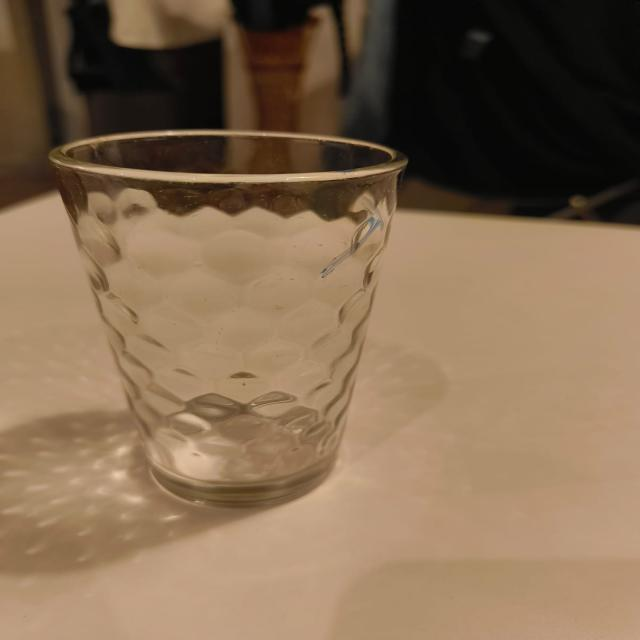mazak: (317, 218, 388, 282)
mazak g2: (47, 128, 411, 512)
